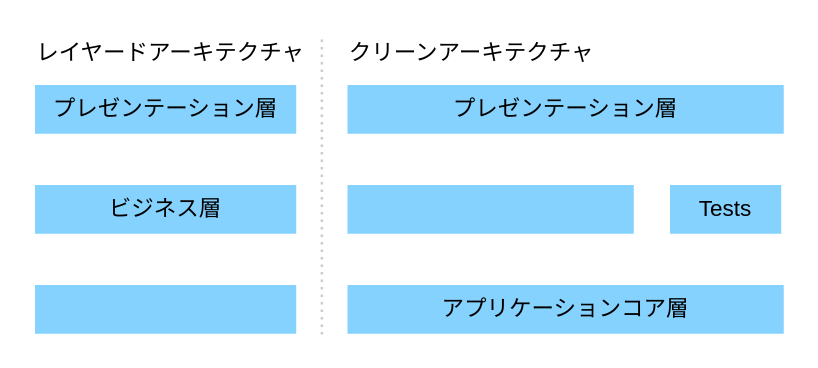
Image size: 818x368. Some labels were removed from this diagram. The shapes that lost their labels are listed below. From the top down, each one's box as (x1, y1, x2, y2) in pixels, then its label:
(346, 183, 634, 234): インフラストラクチャ層
(33, 283, 297, 334): データアクセス層
